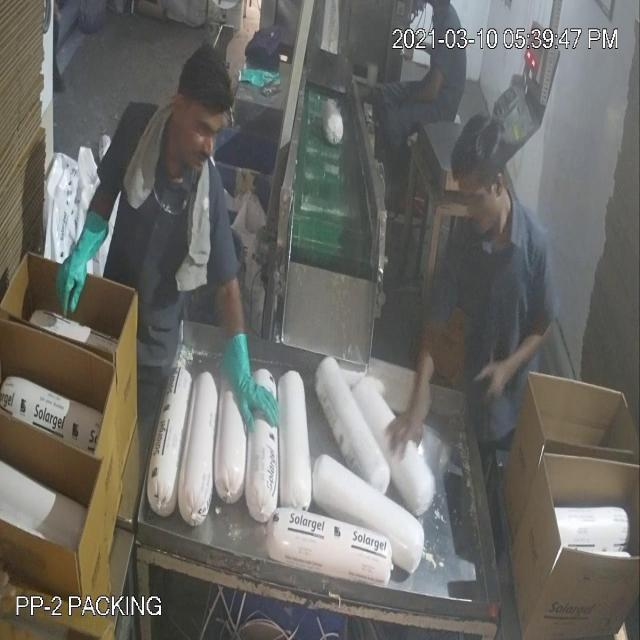No_Gloves: (56, 105, 517, 382)
